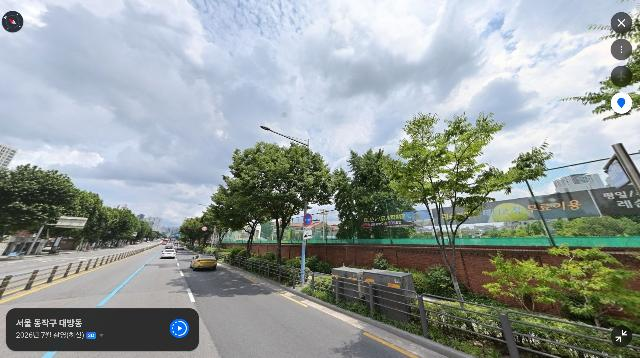other: (379, 110, 552, 310), (477, 245, 640, 344), (214, 140, 335, 273), (327, 146, 410, 266), (0, 163, 95, 259), (63, 188, 116, 253), (99, 203, 151, 250), (181, 216, 221, 254)
